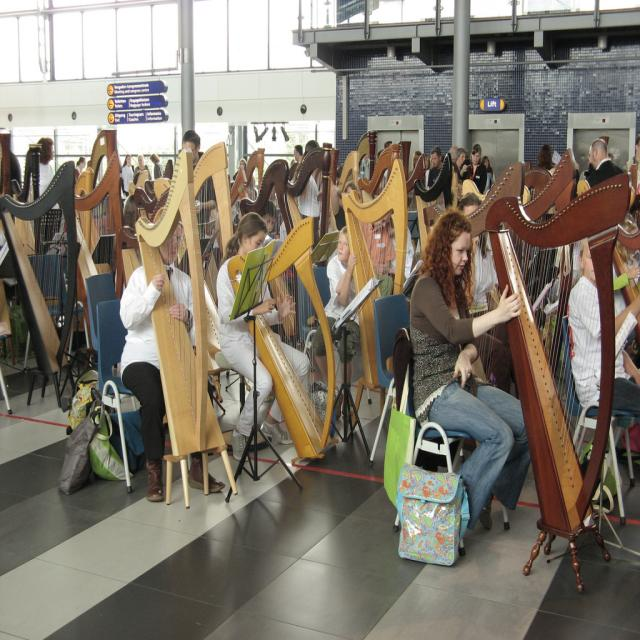harp: (482, 162, 639, 539), (134, 144, 229, 477), (225, 211, 328, 469), (426, 156, 528, 362), (0, 159, 73, 404), (338, 154, 411, 392), (153, 146, 233, 278), (75, 152, 124, 352), (414, 148, 459, 308), (286, 146, 335, 238), (518, 147, 576, 220), (240, 154, 292, 232), (84, 129, 119, 222), (358, 141, 408, 193), (70, 160, 98, 252), (329, 149, 366, 209), (354, 131, 384, 179), (15, 144, 40, 198), (402, 150, 432, 190), (243, 148, 268, 194), (229, 167, 253, 204), (0, 130, 12, 195), (129, 166, 152, 194)
